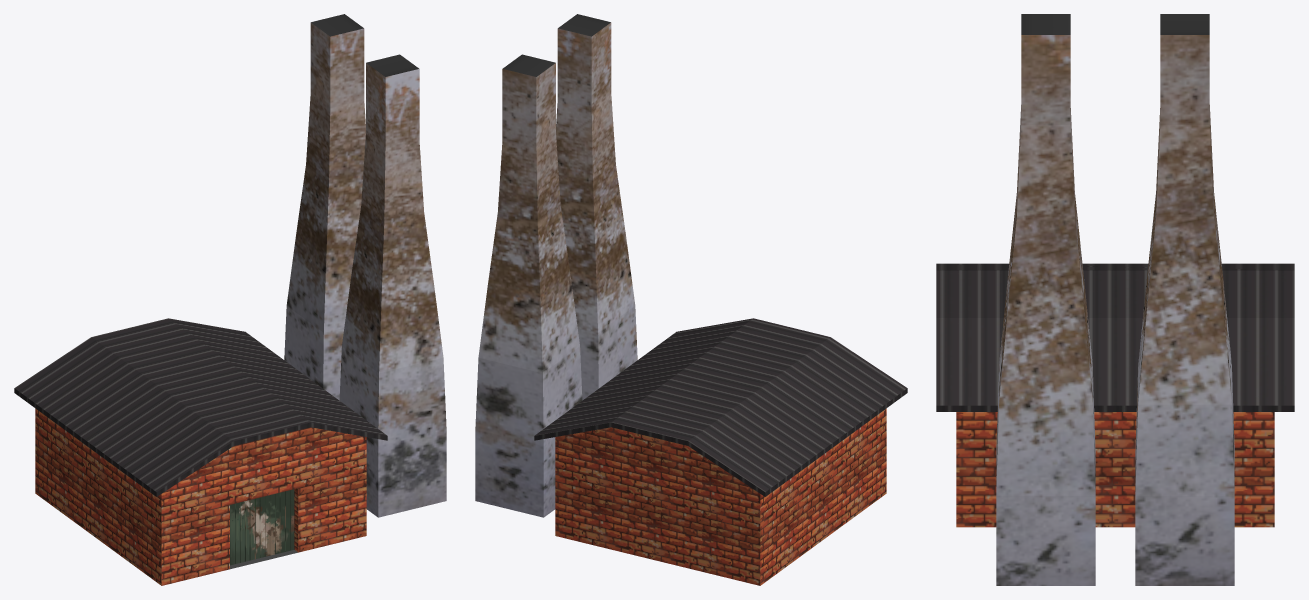
Rendered from 5_industrial.fbx.
The picture shows the model from 3 angles, left to right: view 1: azimuth 30°, elevation 25°; view 2: azimuth 150°, elevation 25°; view 3: azimuth 270°, elevation 25°; orthographic projection. The views are drawn at different scales.
Parts seen in each view (by area): view 1: Cube.010; view 2: Cube.010; view 3: Cube.010.
Boxes of the visible parts, box(x1,y1,x2,y2) form: Cube.010: box(14, 14, 446, 585); Cube.010: box(475, 14, 907, 585); Cube.010: box(936, 14, 1294, 585).
Size of the model in its own units: 459 by 600 by 361.
